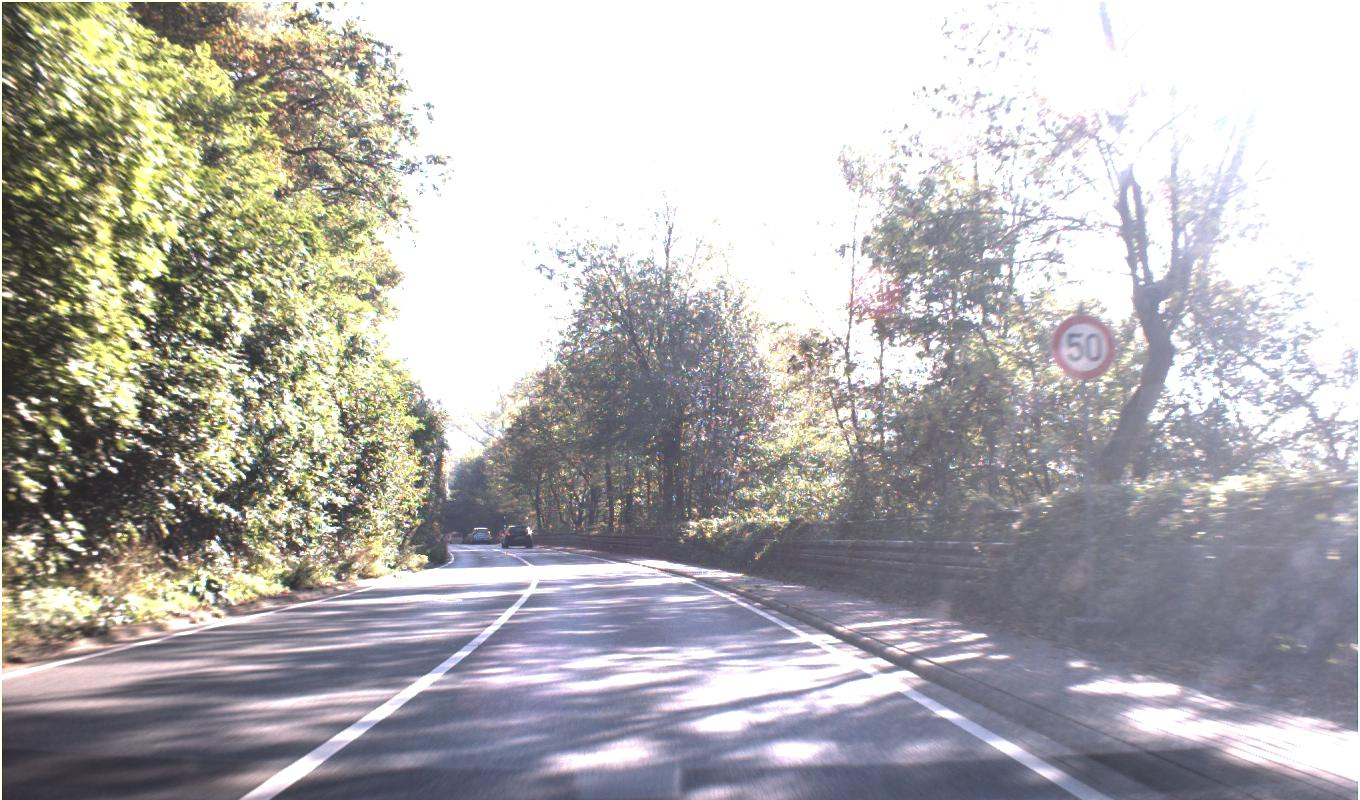prohibitory: (1050, 313, 1116, 381)
